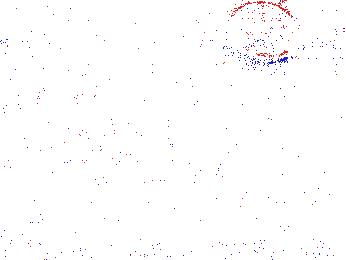moon jellyfish: (60, 96, 155, 158), (1, 2, 67, 84), (223, 1, 298, 64), (283, 1, 346, 61), (1, 42, 46, 125)
